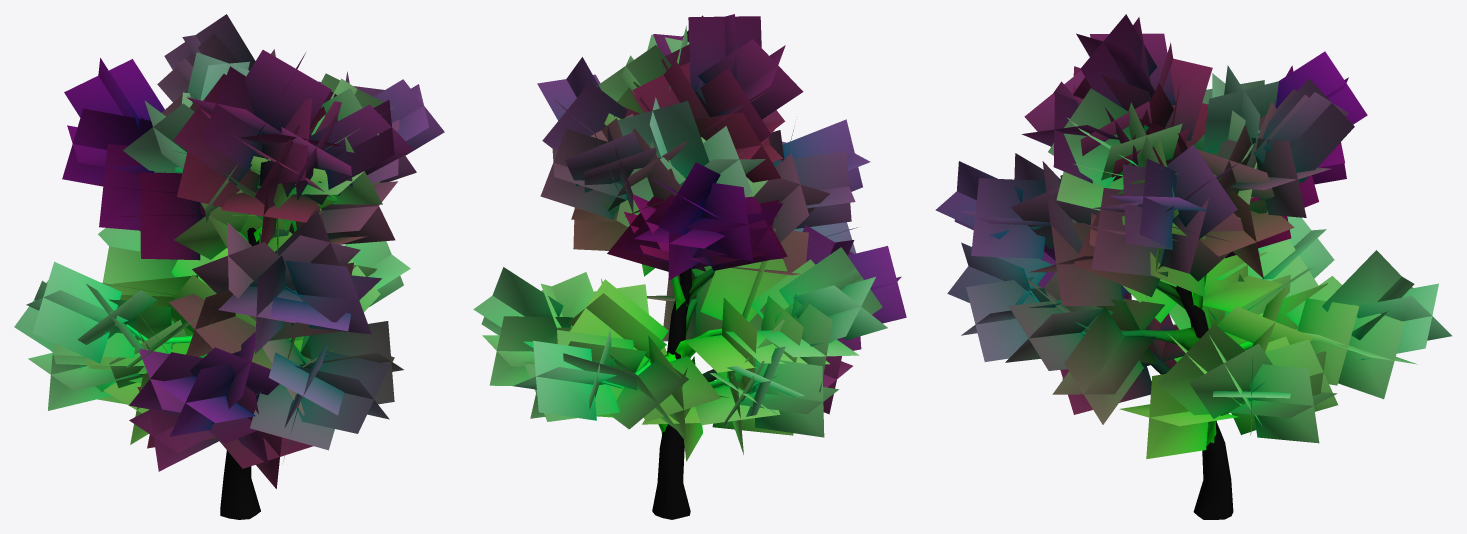
The model's file is M_P11_Tree_2.fbx.
The picture shows the model from 3 angles, left to right: view 1: azimuth 30°, elevation 25°; view 2: azimuth 150°, elevation 25°; view 3: azimuth 270°, elevation 25°; orthographic projection. The views are drawn at different scales.
Parts seen in each view (by area): view 1: Tree_2; view 2: Tree_2; view 3: Tree_2.
Boxes of the visible parts, bbox=[...] form: Tree_2: bbox=[14, 14, 444, 519]; Tree_2: bbox=[473, 14, 906, 519]; Tree_2: bbox=[935, 14, 1451, 519].
Bounding box in the file's own units: 596 × 708 × 681.
